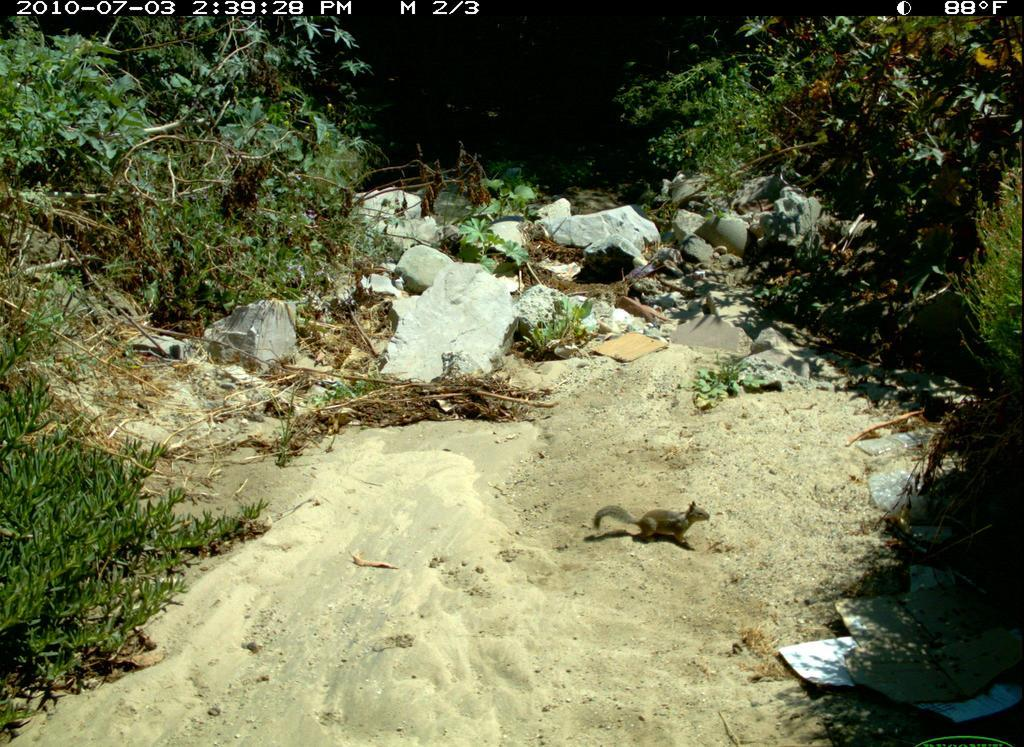squirrel: (593, 496, 717, 553)
